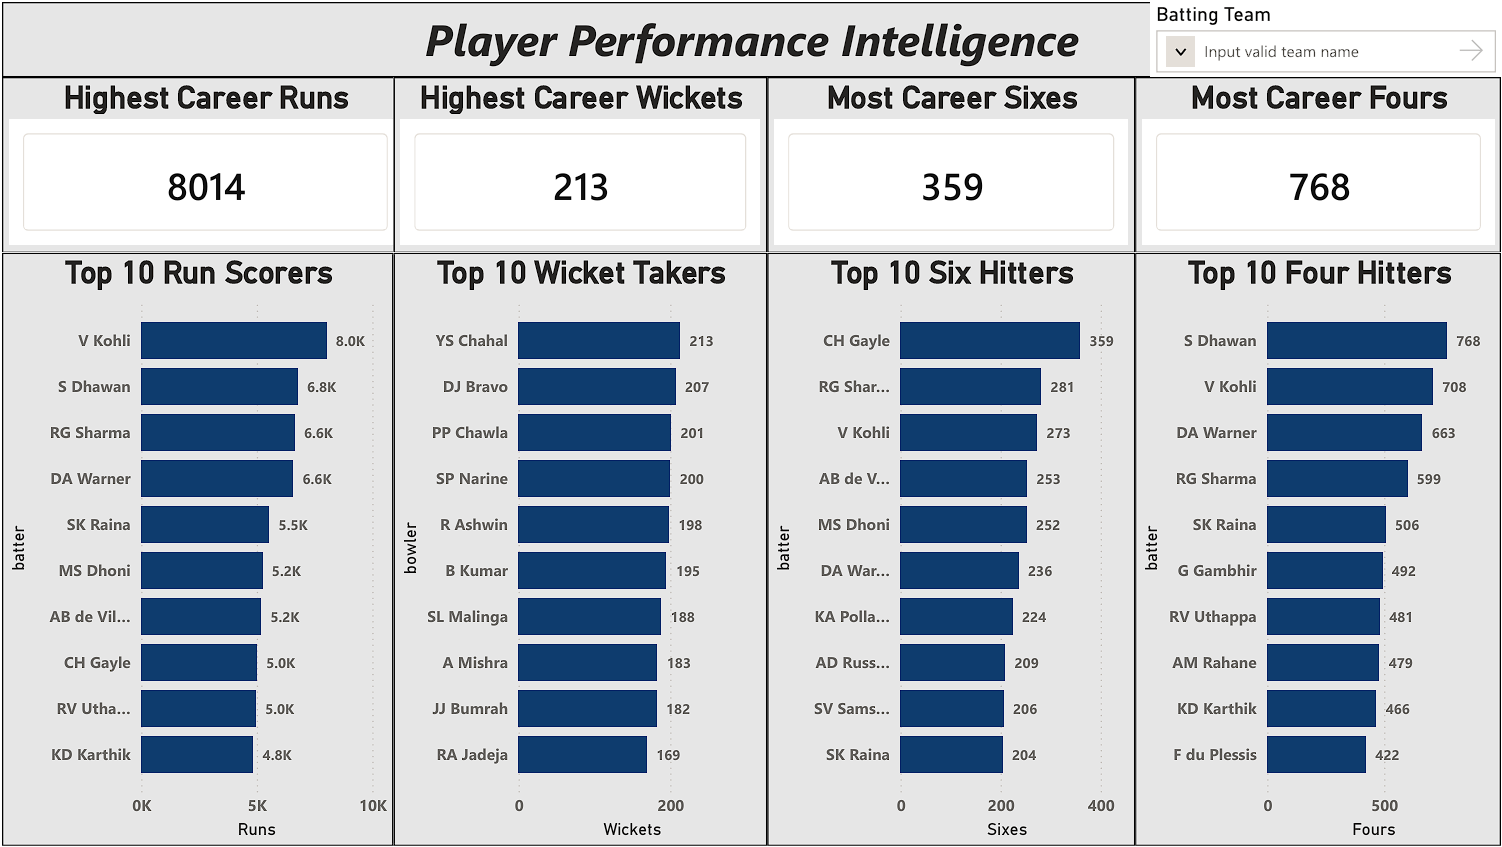

The page's visual inventory and layout, read from the dashboard file:
{"tool":"powerbi","page":{"name":"Page 2","canvas":[1280,720],"ordinal":1},"visuals":[{"type":"textbox","box":[0,0,1280,64.3],"z":0},{"type":"cardVisual","title":"Highest Career Runs","fields":{"Data":["deliveries_cleaned.Most Runs"]},"box":[0,64.3,347.1,150],"z":1000},{"type":"cardVisual","title":"Highest Career Wickets","fields":{"Data":["deliveries_cleaned.Most Wickets"]},"box":[334.3,64.3,318.6,150],"z":2000},{"type":"cardVisual","title":"Most Career Sixes","fields":{"Data":["deliveries_cleaned.Most Sixes"]},"box":[652.9,64.3,314.3,150],"z":3000},{"type":"cardVisual","title":"Most Career Fours","fields":{"Data":["deliveries_cleaned.Most Fours"]},"box":[967.1,64.3,312.9,150],"z":4000},{"type":"barChart","title":"Top 10 Run Scorers","fields":{"Category":["deliveries_cleaned.batter"],"Y":["Sum(deliveries_cleaned.batsman_runs)"]},"box":[0,214.3,334.3,505.7],"z":5000},{"type":"barChart","title":"Top 10 Wicket Takers","fields":{"Category":["deliveries_cleaned.bowler"],"Y":["Sum(deliveries_cleaned.is_wicket)"]},"box":[334.3,214.3,318.6,505.7],"z":6000},{"type":"barChart","title":"Top 10 Six Hitters","fields":{"Category":["deliveries_cleaned.batter"],"Y":["CountNonNull(deliveries_cleaned.batsman_runs)"]},"box":[652.9,214.3,314.3,505.7],"z":7000},{"type":"barChart","title":"Top 10 Four Hitters","fields":{"Category":["deliveries_cleaned.batter"],"Y":["CountNonNull(deliveries_cleaned.batsman_runs)"]},"box":[967.1,214.3,312.9,505.7],"z":8000},{"type":"textSlicer","title":"Batting Team","fields":{"Values":["deliveries_cleaned.batting_team"]},"box":[980,0,300,64.3],"z":8001}]}

Visuals, with their boxes in screenshot pixels (x1, y1, x2, y2), scaled from the page's 1280x720 canvas onto the 1502x847 screenshot:
textbox: 0,0,1501,76
"Highest Career Runs" cardVisual: 0,76,407,252
"Highest Career Wickets" cardVisual: 392,76,766,252
"Most Career Sixes" cardVisual: 766,76,1135,252
"Most Career Fours" cardVisual: 1135,76,1501,252
"Top 10 Run Scorers" barChart: 0,252,392,846
"Top 10 Wicket Takers" barChart: 392,252,766,846
"Top 10 Six Hitters" barChart: 766,252,1135,846
"Top 10 Four Hitters" barChart: 1135,252,1501,846
"Batting Team" textSlicer: 1150,0,1501,76
